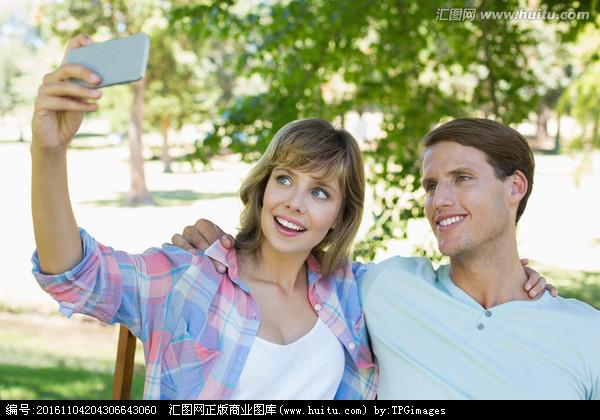taking photos: (27, 29, 152, 158)
